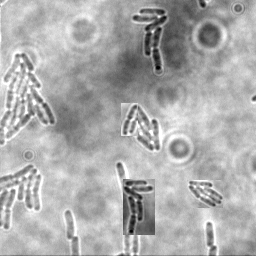Dividing: (114, 161, 133, 255), (121, 103, 138, 136), (204, 221, 215, 248)
Microcolony: (1, 51, 56, 147), (1, 162, 44, 231), (130, 8, 167, 72), (123, 179, 155, 235), (124, 106, 160, 153), (187, 180, 223, 208), (63, 208, 74, 240)
